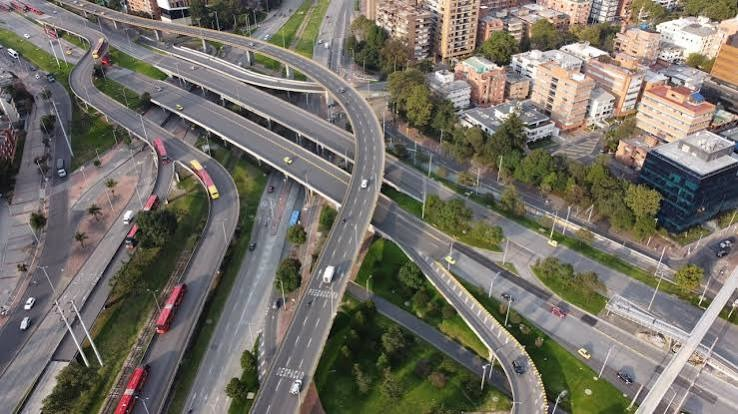car: (620, 124, 738, 230)
